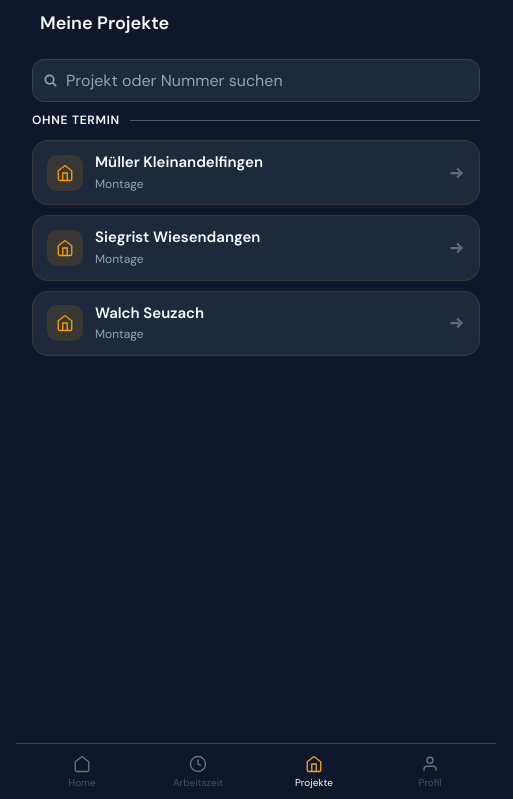
it: ProjekteScreen — Suche über Name und Nummer › zeigt während der Suche die Nummer an der Kachel
Expected: the text "Müller Kleinandelfingen" is shown, [95,152,263,172]
Expected: the text "Nr. 2600559" is not shown
Type "müller" into the search field labelled "Projekt oder Nummer suchen" at (268, 80), box [66,60,469,101]
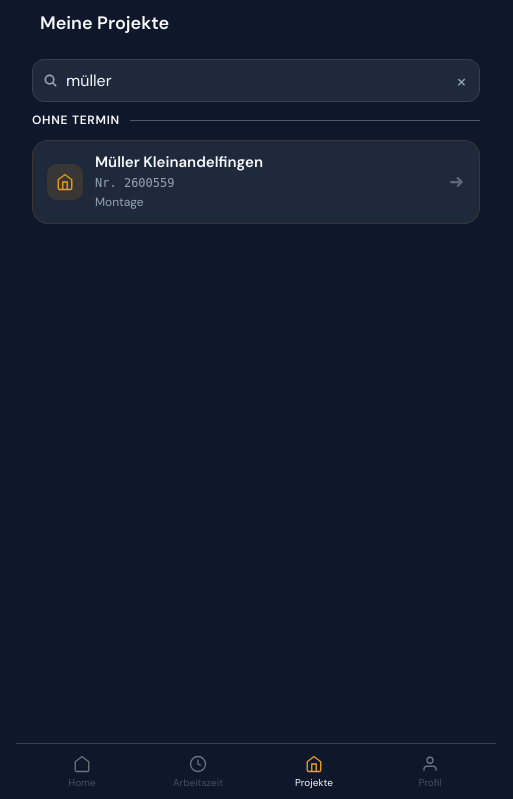
Expected: the text "Nr. 2600559" is shown, [95,176,174,190]
